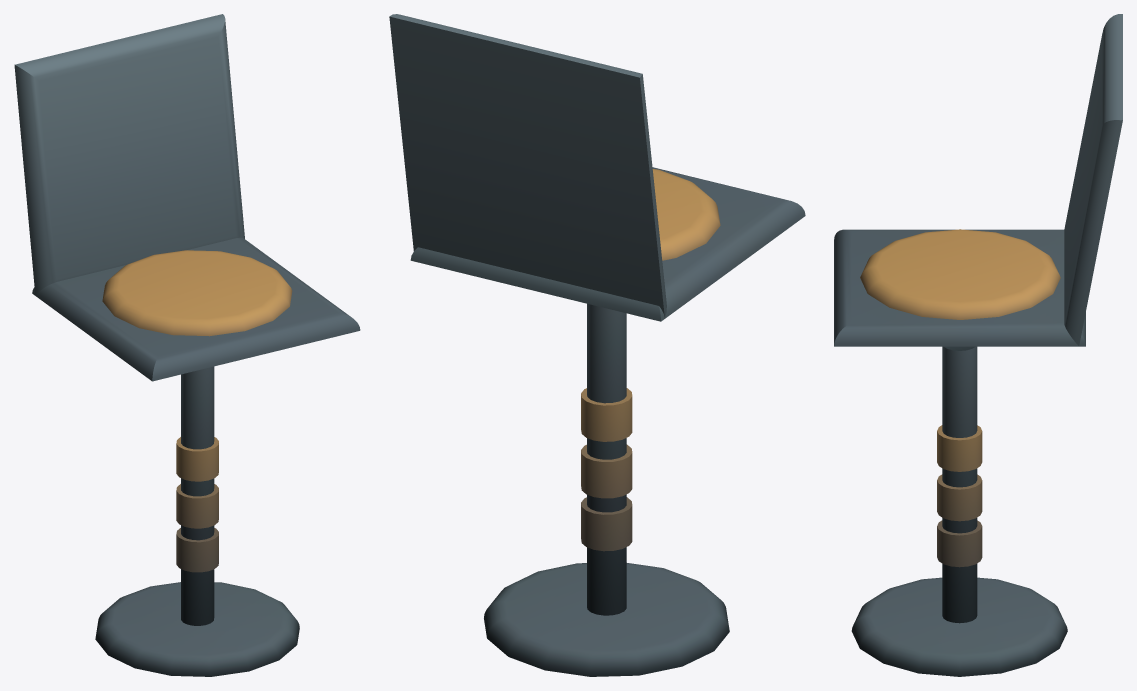
Rendered from BarChair.fbx.
The picture shows the model from 3 angles, left to right: view 1: azimuth 30°, elevation 25°; view 2: azimuth 150°, elevation 25°; view 3: azimuth 270°, elevation 25°; orthographic projection. The views are drawn at different scales.
Parts seen in each view (by area): view 1: BarChair; view 2: BarChair; view 3: BarChair.
Boxes of the visible parts, left/top/right/bottom form: BarChair: left=14, top=14, right=360, bottom=676; BarChair: left=389, top=14, right=805, bottom=676; BarChair: left=834, top=14, right=1122, bottom=676.
Size of the model in its own units: 0.5 by 0.5734 by 1.23.
